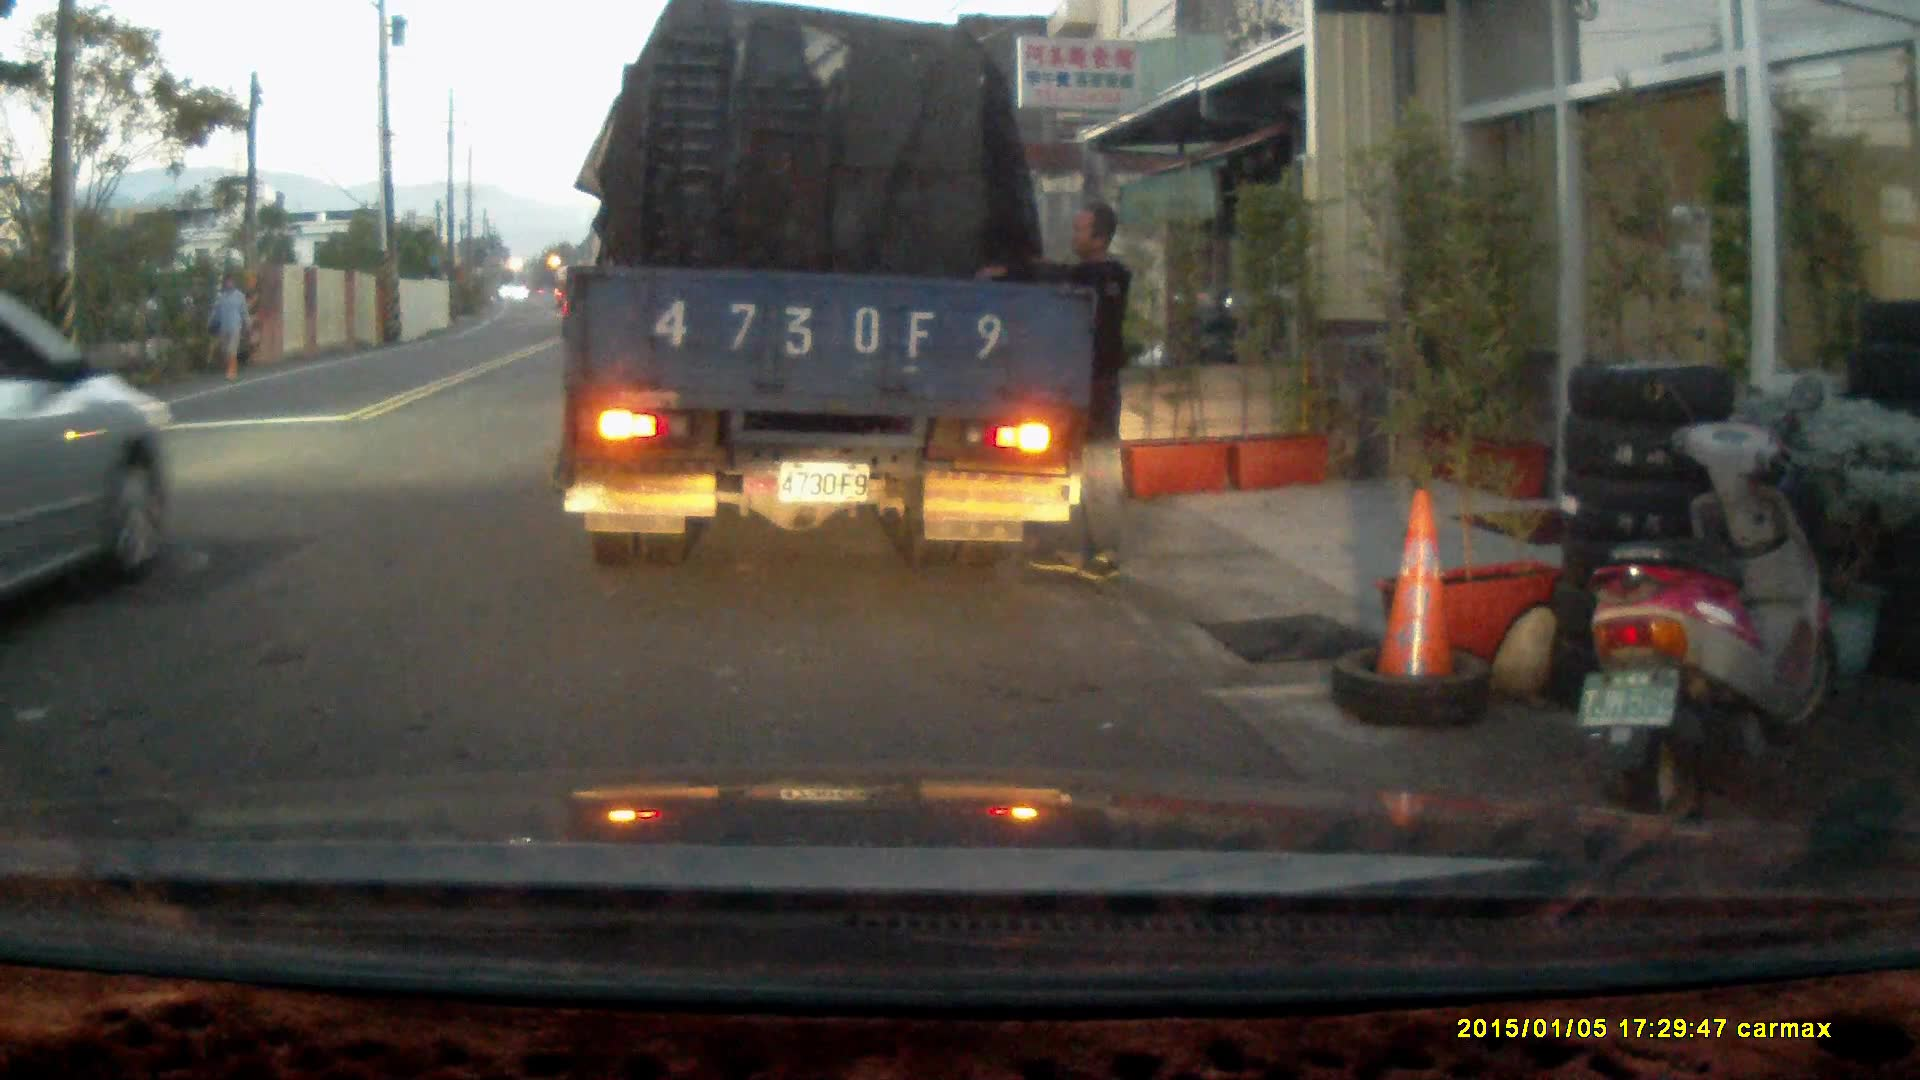pedestrian: (973, 200, 1130, 581), (209, 270, 249, 382)
vehicle: (565, 23, 1097, 572), (4, 290, 178, 603)
